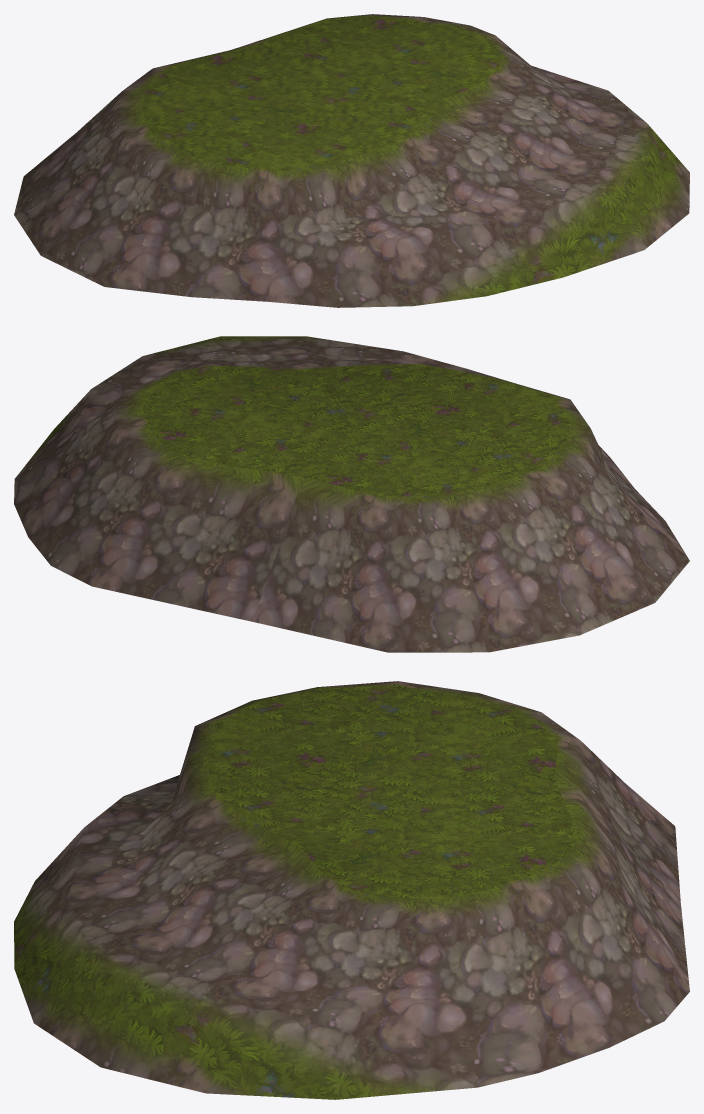
Rendered from Town004_NewTerrain_01.FBX.
The picture shows the model from 3 angles, top to bottom: view 1: azimuth 30°, elevation 25°; view 2: azimuth 150°, elevation 25°; view 3: azimuth 270°, elevation 25°; orthographic projection. The views are drawn at different scales.
Parts seen in each view (by area): view 1: Town004_NewTerrain_01; view 2: Town004_NewTerrain_01; view 3: Town004_NewTerrain_01.
Boxes of the visible parts, box(x1,y1,x2,y2) form: Town004_NewTerrain_01: box(14, 14, 689, 307); Town004_NewTerrain_01: box(14, 336, 689, 652); Town004_NewTerrain_01: box(14, 681, 689, 1099).
Size of the model in its own units: 3692 by 587 by 2941.
Materials: 2 (2 with a texture image).
